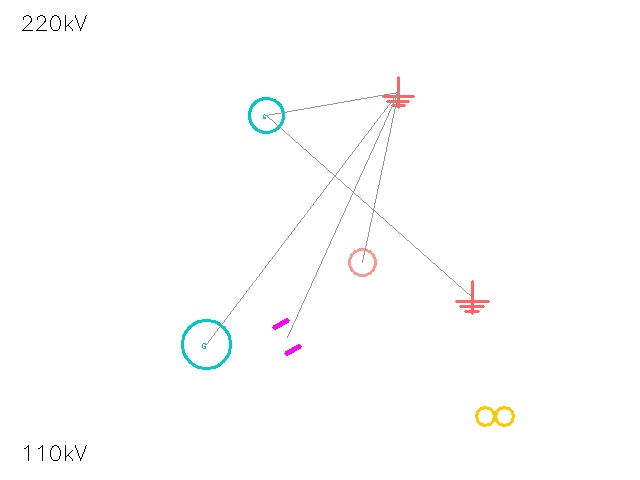capacitor: (263, 313, 311, 361)
feeder_terminal: (335, 235, 389, 289)
generator: (182, 320, 230, 368), (249, 98, 283, 132)
ground: (456, 281, 488, 313), (383, 77, 413, 107)
transformer_2w: (472, 393, 518, 439)
